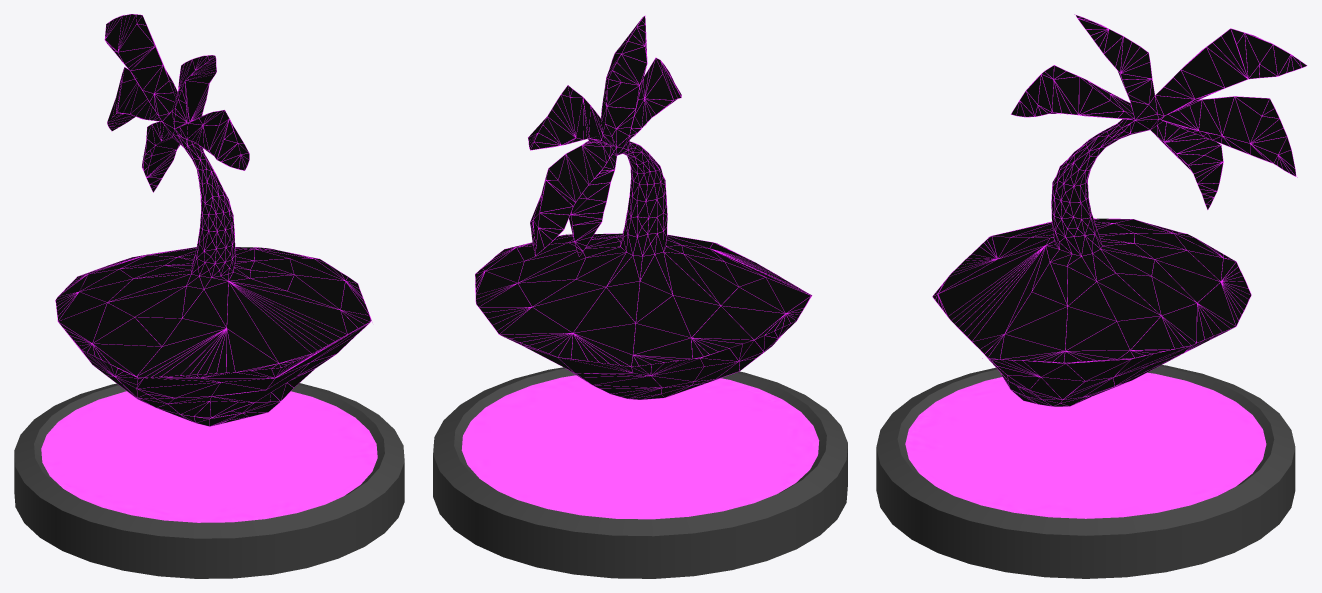
The model's file is neonPalm.gltf.
3 renders of one model, left to right at view 1: azimuth 30°, elevation 25°; view 2: azimuth 150°, elevation 25°; view 3: azimuth 270°, elevation 25°, orthographic. The views are drawn at different scales.
Parts seen in each view (by area): view 1: Stand, Palm_Under; view 2: Stand, Palm_Under; view 3: Stand, Palm_Under.
Boxes of the visible parts, left/top/right/bottom form: Stand: left=14, top=383, right=404, bottom=578; Palm_Under: left=55, top=14, right=372, bottom=426; Stand: left=433, top=367, right=847, bottom=578; Palm_Under: left=475, top=15, right=812, bottom=399; Stand: left=876, top=365, right=1295, bottom=578; Palm_Under: left=932, top=14, right=1307, bottom=406.
Size of the model in its own units: 0.1547 by 0.1974 by 0.1592.
Materials: 2 (1 with a texture image).
